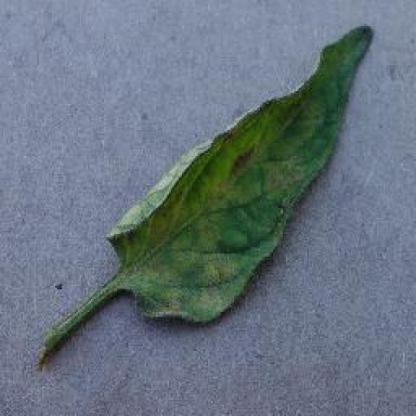Tomato_Leaf_Mold: (115, 24, 371, 313)
